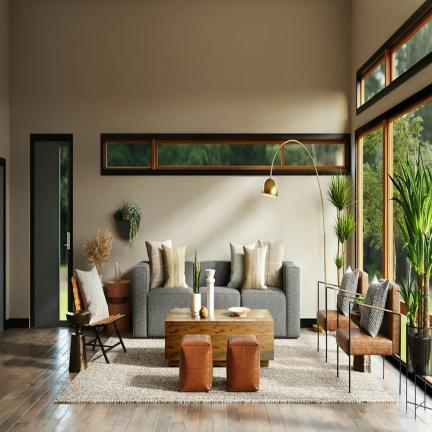cabinet: (55, 330, 394, 402), (108, 337, 114, 343), (224, 341, 226, 348), (321, 334, 324, 335), (396, 378, 397, 380)
carpet: (336, 280, 400, 369), (317, 266, 368, 348), (76, 314, 126, 369), (71, 277, 88, 319), (350, 307, 359, 326), (318, 281, 324, 307), (359, 357, 370, 371), (71, 338, 77, 356), (70, 357, 77, 366), (70, 366, 77, 371), (400, 360, 401, 393), (367, 288, 372, 294), (349, 365, 350, 392), (317, 337, 319, 350), (361, 311, 363, 315), (363, 311, 365, 314), (368, 358, 369, 362), (350, 312, 351, 315), (365, 301, 367, 302)
curtain: (30, 134, 73, 325)
door: (0, 328, 432, 431), (87, 348, 92, 358), (427, 396, 432, 403), (331, 371, 334, 380), (416, 389, 422, 393), (343, 385, 346, 390), (110, 352, 112, 357), (124, 335, 126, 339), (176, 372, 178, 375), (128, 350, 130, 352), (312, 333, 314, 335), (314, 344, 315, 346)
person: (390, 148, 432, 375), (326, 172, 355, 284), (114, 198, 143, 247), (83, 228, 113, 275), (194, 246, 201, 293), (398, 273, 400, 277), (397, 271, 398, 274)
plant: (406, 323, 432, 375), (114, 217, 130, 239), (92, 273, 104, 294), (190, 293, 201, 315), (114, 210, 119, 214), (137, 221, 140, 225), (137, 227, 138, 230), (138, 225, 139, 227)
vegetables: (1, 1, 352, 318), (301, 303, 314, 317), (326, 225, 334, 247), (327, 247, 334, 269), (326, 211, 331, 222), (268, 152, 273, 162), (328, 272, 330, 279), (332, 277, 334, 280), (44, 273, 45, 275)
wall: (355, 84, 432, 280), (101, 134, 350, 175), (356, 0, 432, 114), (273, 143, 312, 174), (396, 317, 407, 362), (400, 304, 406, 313), (413, 274, 416, 278), (427, 285, 428, 289), (368, 100, 372, 101), (428, 316, 429, 318)
